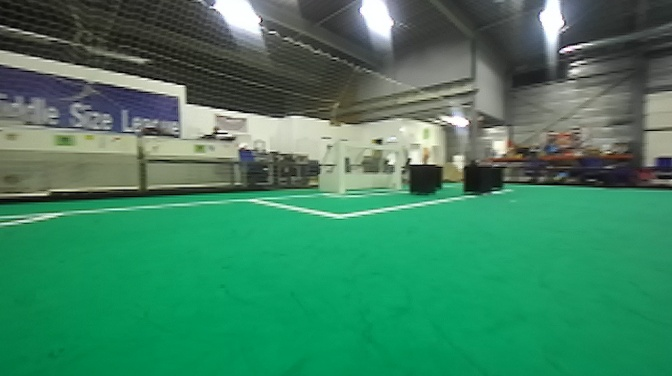goalpost: (327, 137, 348, 196), (385, 140, 402, 192)
